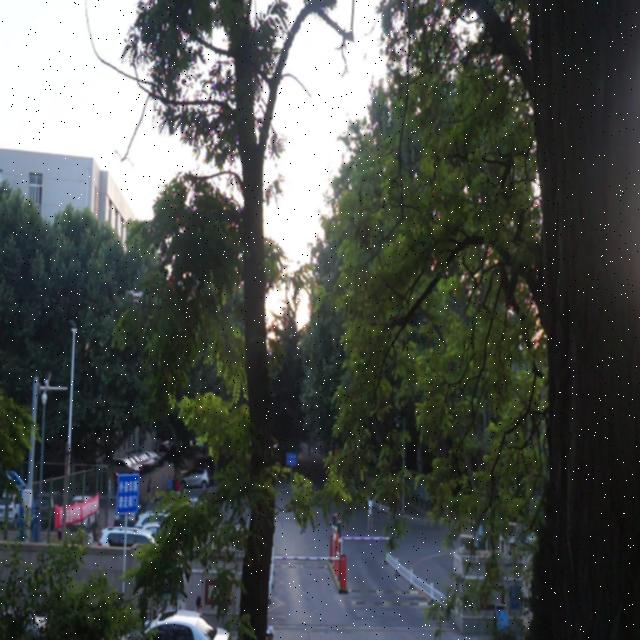UAV: (128, 290, 144, 304)
